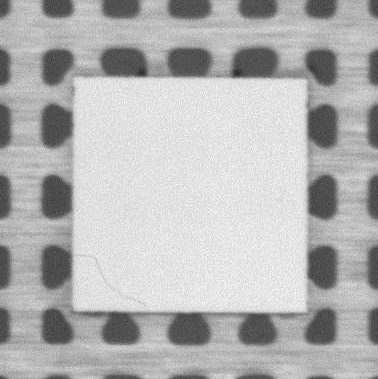DIE_CRACK: (76, 253, 149, 305)
